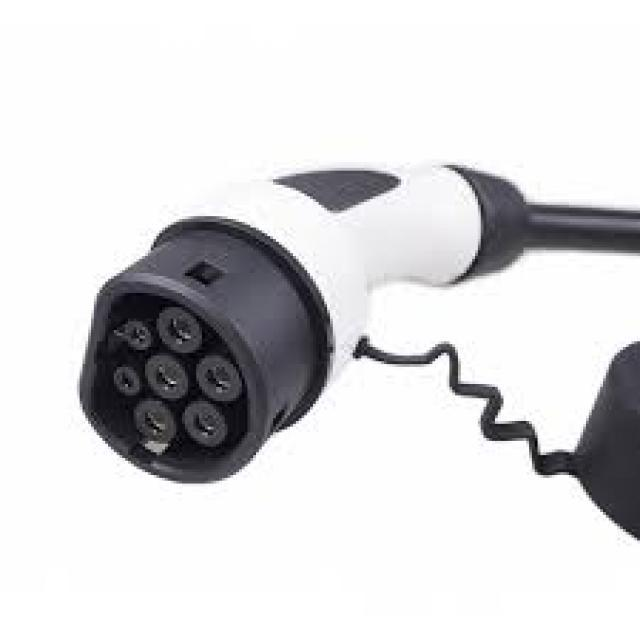Type 2: (43, 233, 304, 515)
